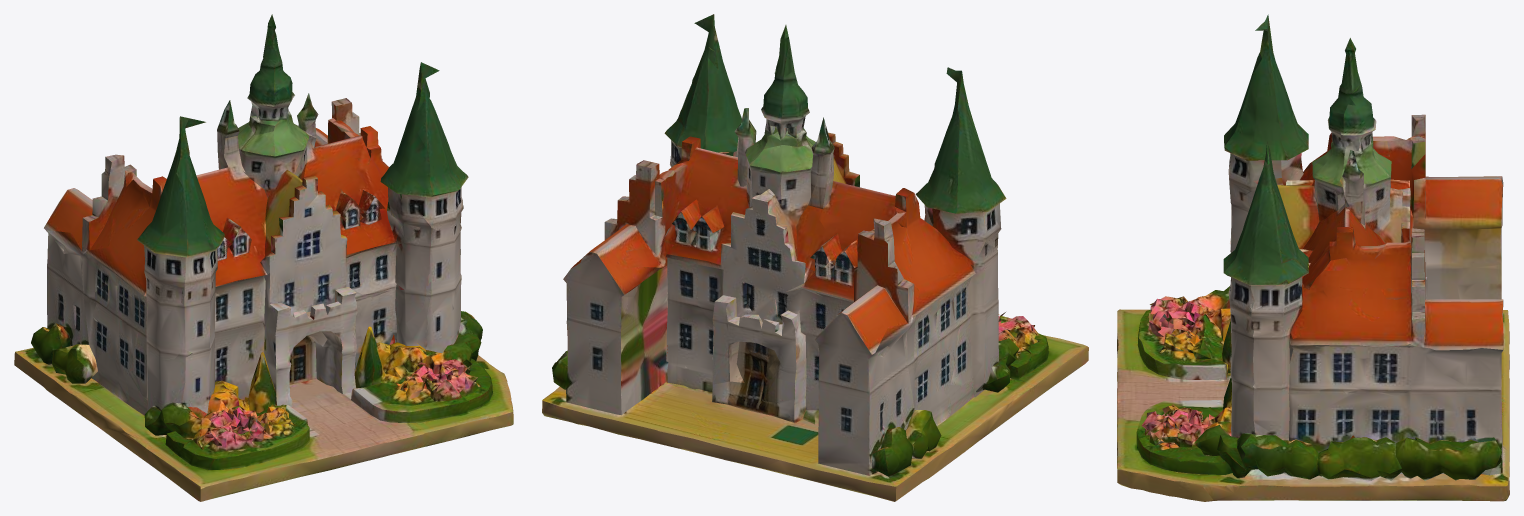
File: noboribetsu-nixe.glb
3 views of the same model, side by side, from view 1: azimuth 30°, elevation 25°; view 2: azimuth 150°, elevation 25°; view 3: azimuth 270°, elevation 25° (orthographic). The views are drawn at different scales.
Parts seen in each view (by area): view 1: logan-textured.obj; view 2: logan-textured.obj; view 3: logan-textured.obj.
Part boxes in pixels (x1=…): logan-textured.obj: x1=14, y1=14, x2=513, y2=501; logan-textured.obj: x1=542, y1=14, x2=1088, y2=501; logan-textured.obj: x1=1117, y1=14, x2=1509, y2=501.
Size of the model in its own units: 0.9978 by 1 by 0.9331.
Materials: 1 (1 with a texture image).
